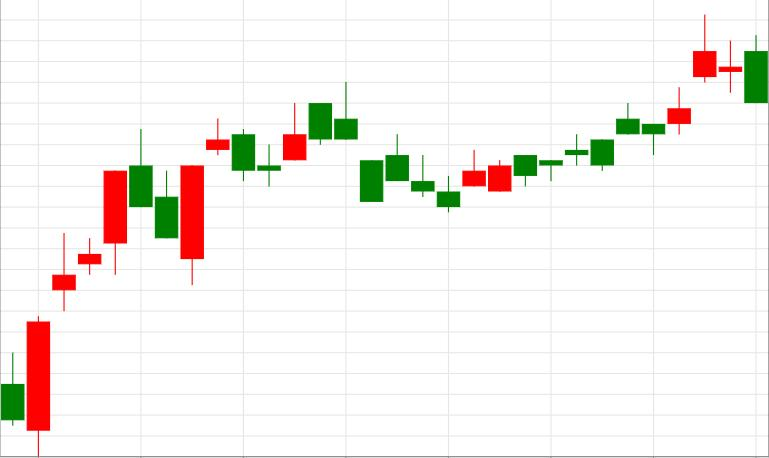shooting_star_fall: (591, 14, 717, 171)
